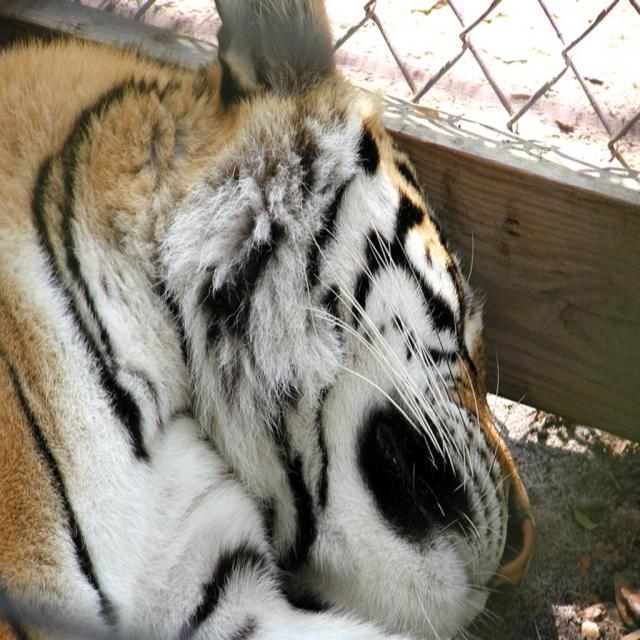Tiger: (0, 32, 534, 639)
